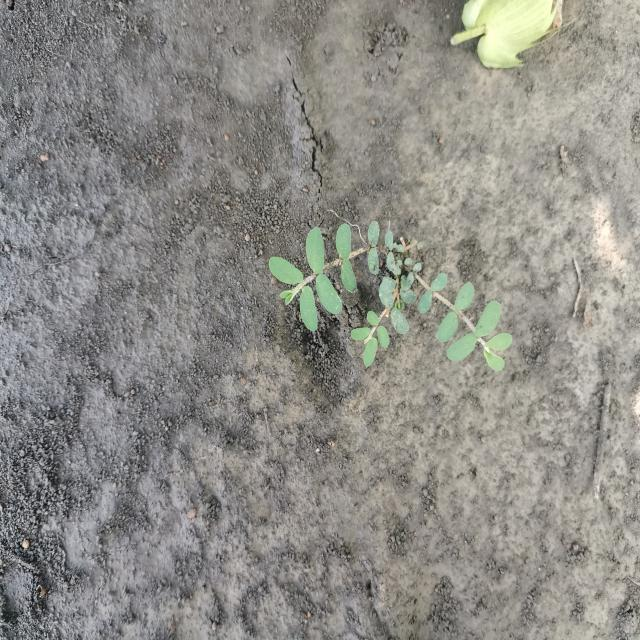SpottedSpurge: (267, 221, 515, 376)
